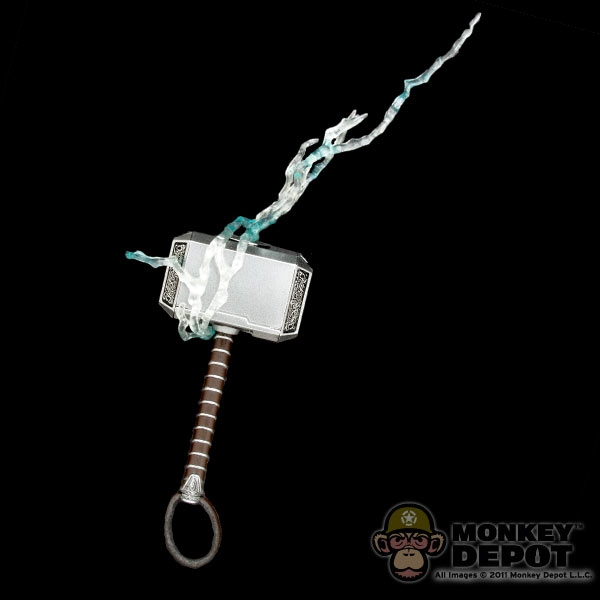THOR Hammer: (164, 216, 311, 550)
